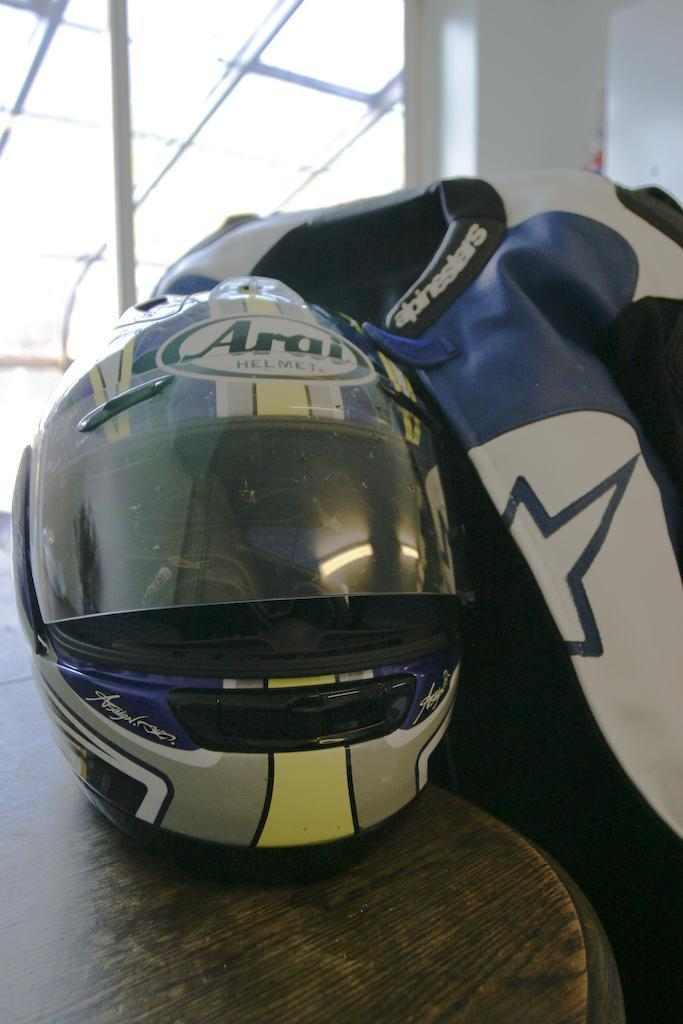helmet: (7, 273, 469, 891)
